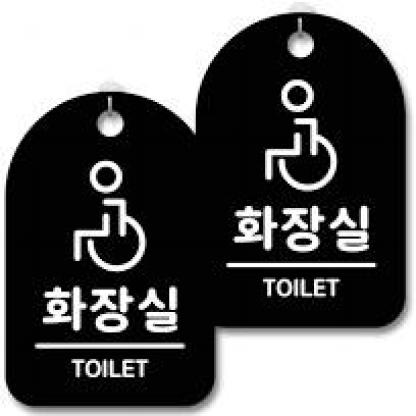toilet: (257, 78, 341, 194), (69, 162, 149, 273)
